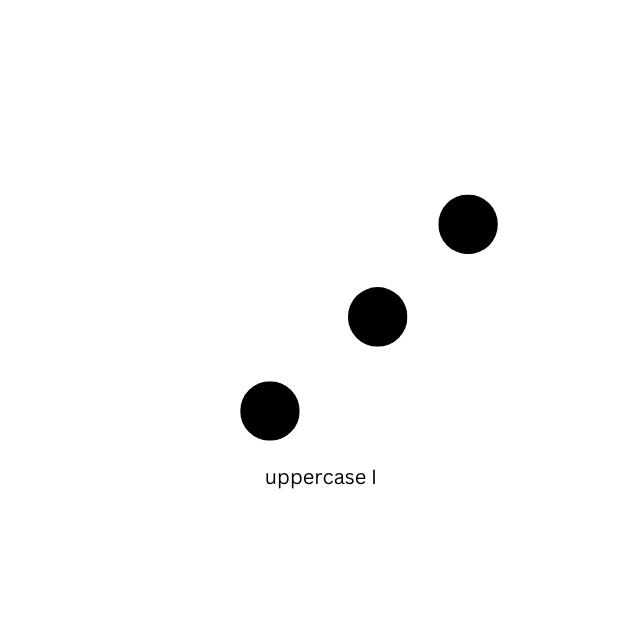capital_sign: (146, 190, 300, 440)
letter_I: (346, 192, 500, 442)
